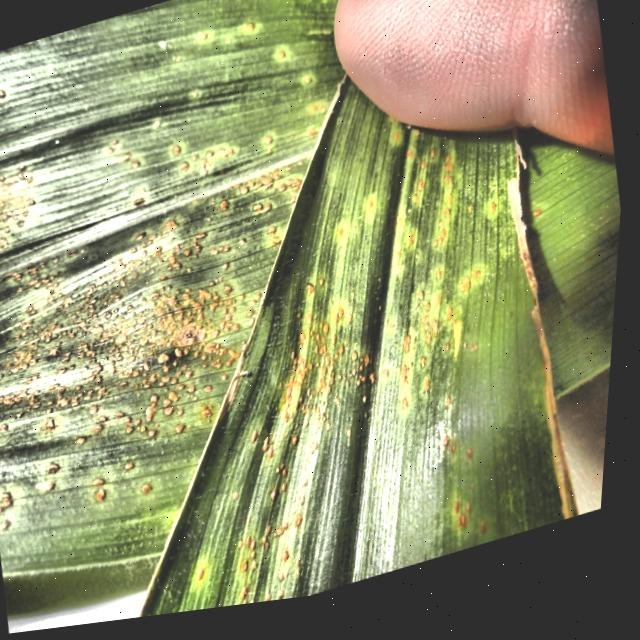common_rust: (140, 113, 560, 617)
